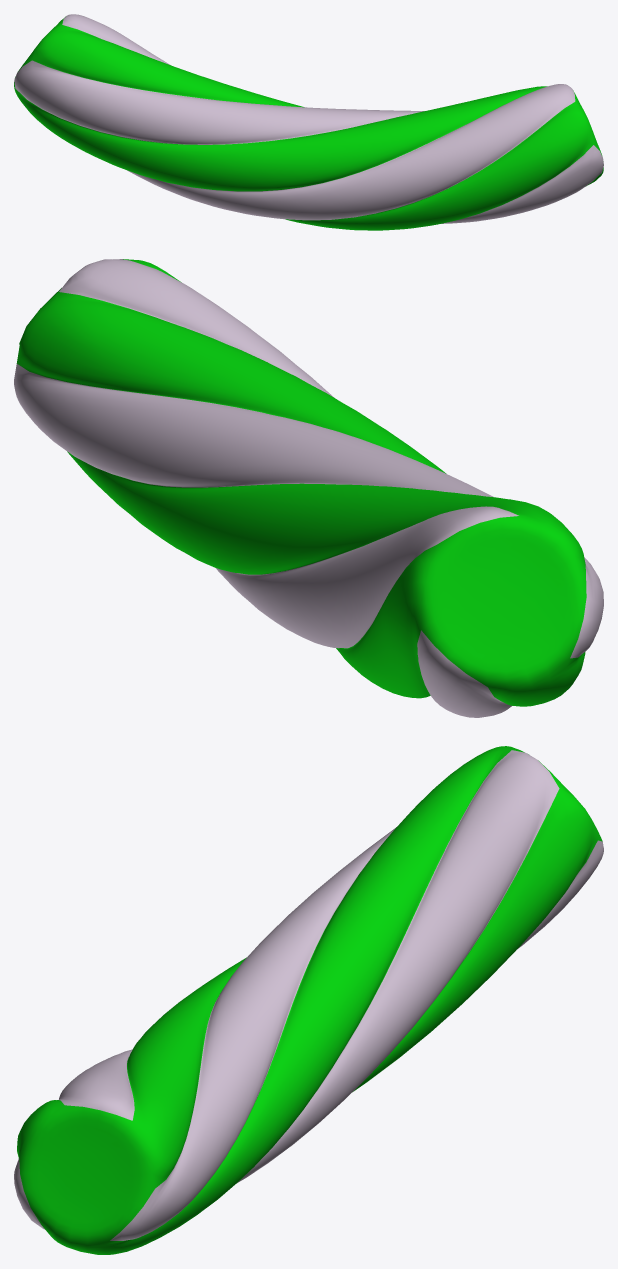
File: twister_008.obj
The picture shows the model from 3 angles, top to bottom: view 1: azimuth 30°, elevation 25°; view 2: azimuth 150°, elevation 25°; view 3: azimuth 270°, elevation 25°; orthographic projection. The views are drawn at different scales.
Visible parts, largest first — view 1: twister.008; view 2: twister.008; view 3: twister.008.
Boxes of the visible parts, x1,y1,x2,y2 form: twister.008: (14,14,603,230); twister.008: (14,259,603,717); twister.008: (14,746,603,1254).
Bounding box in the file's own units: 2.05 × 0.7958 × 1.57.
